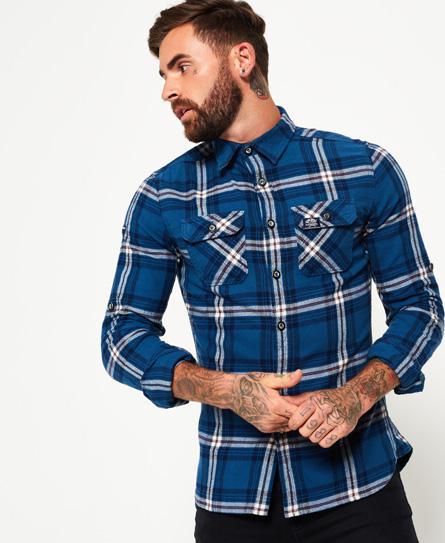teeshirt: (94, 114, 444, 522)
